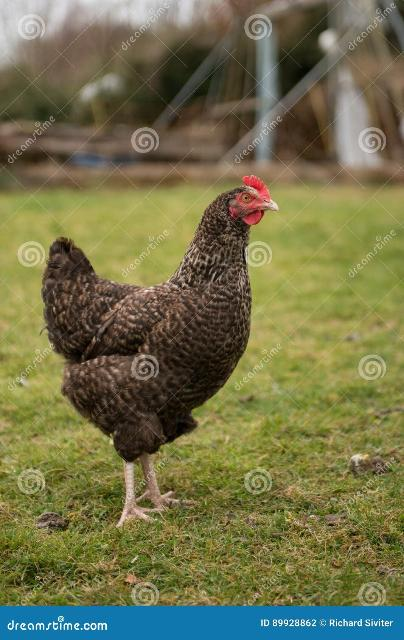Chicken: (42, 173, 282, 537)
